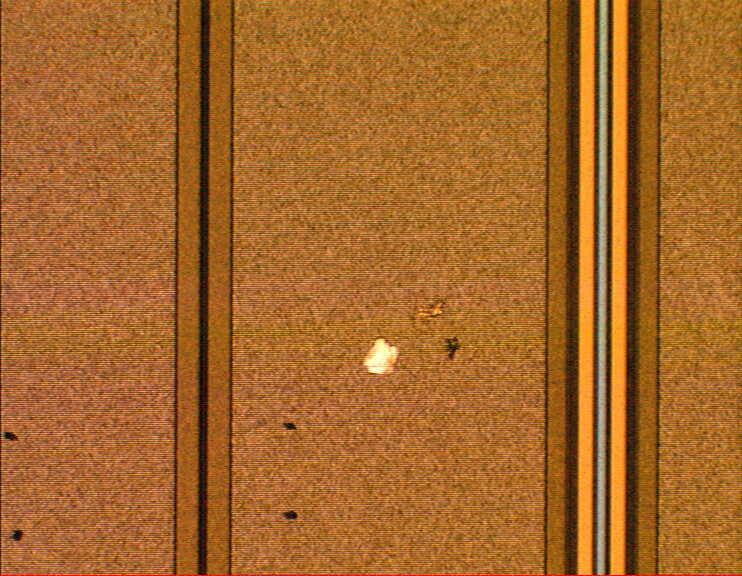SCRATCH: (341, 298, 498, 384)
